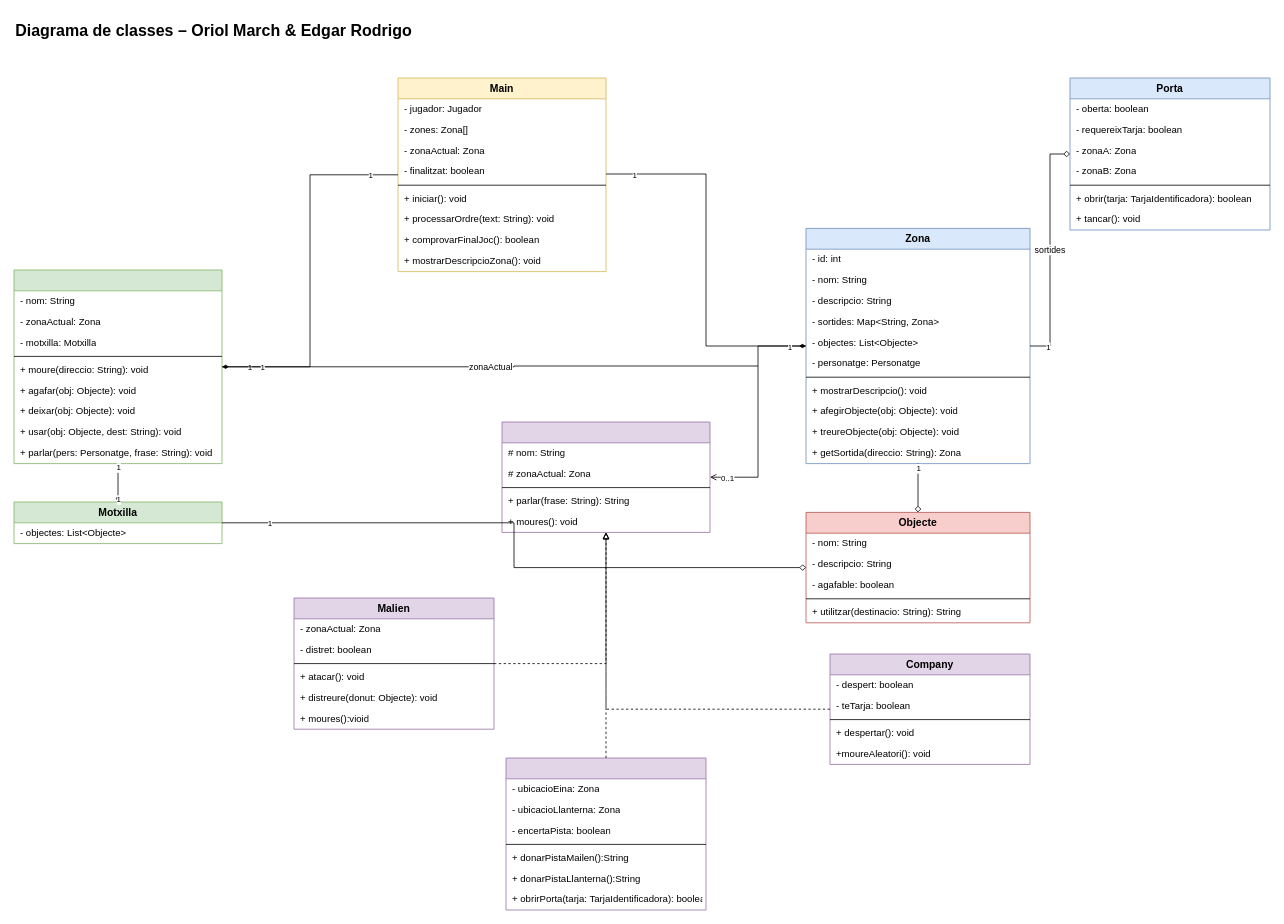
Some shapes in this 1284 by 924 pixel diagram are drawn without their labels. The shapes that lost their labels are listed below. From the top down, each one's box as (x1, y1, x2, y2) in pixels, then its label:
(13, 269, 222, 464): Jugador
(501, 421, 710, 532): Personatge
(505, 757, 706, 910): iHall
